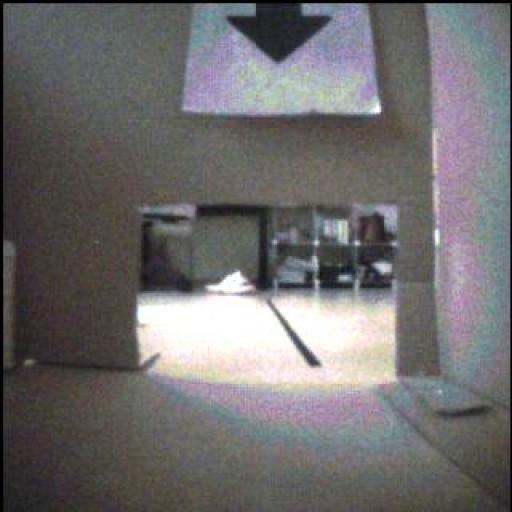arrow: (228, 5, 332, 64)
